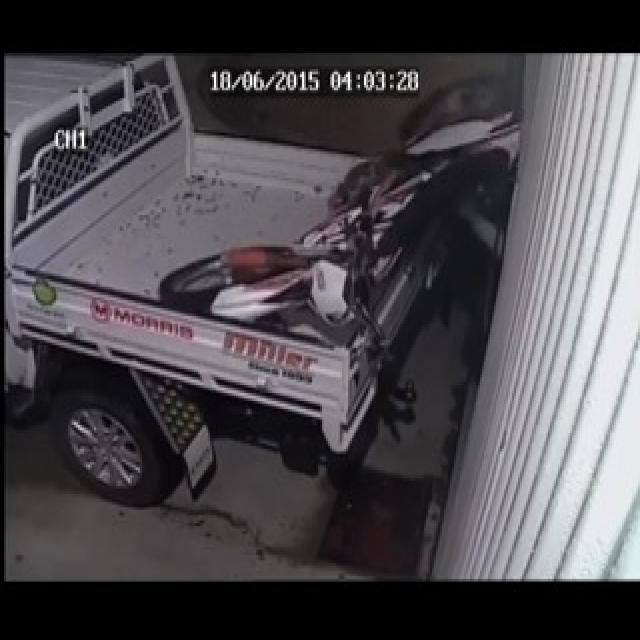burglary: (174, 102, 517, 368)
